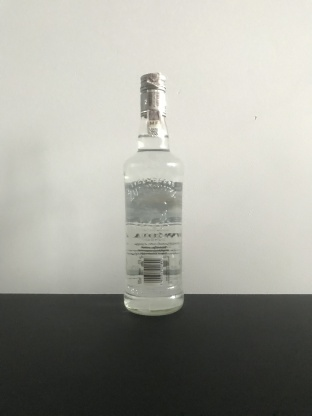nakretka: (138, 70, 168, 118)
